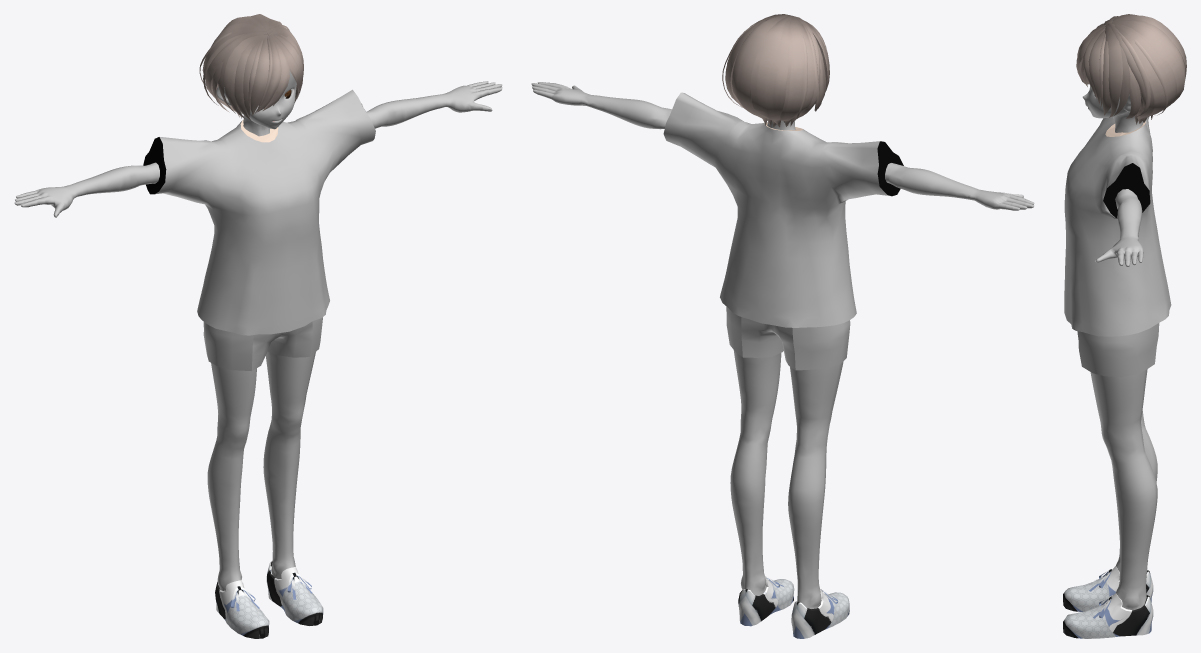
3 renders of one model, left to right at view 1: azimuth 30°, elevation 25°; view 2: azimuth 150°, elevation 25°; view 3: azimuth 270°, elevation 25°, orthographic. The views are drawn at different scales.
Parts seen in each view (by area): view 1: オブジェクト004, Hair, Face, オブジェクト001; view 2: オブジェクト004, Hair, オブジェクト001; view 3: オブジェクト004, Hair, オブジェクト, Face.
Boxes of the visible parts, bbox=[...] form: オブジェクト004: bbox=[14, 81, 502, 638]; Hair: bbox=[199, 14, 303, 120]; Face: bbox=[216, 71, 296, 129]; オブジェクト001: bbox=[143, 137, 166, 194]; オブジェクト004: bbox=[531, 82, 1034, 638]; Hair: bbox=[722, 14, 829, 127]; オブジェクト001: bbox=[877, 141, 903, 196]; オブジェクト004: bbox=[1063, 111, 1171, 638]; Hair: bbox=[1076, 14, 1186, 124]; オブジェクト: bbox=[1103, 163, 1150, 218]; Face: bbox=[1082, 85, 1131, 118].
Size of the model in its own units: 55.45 by 63.89 by 11.94.
